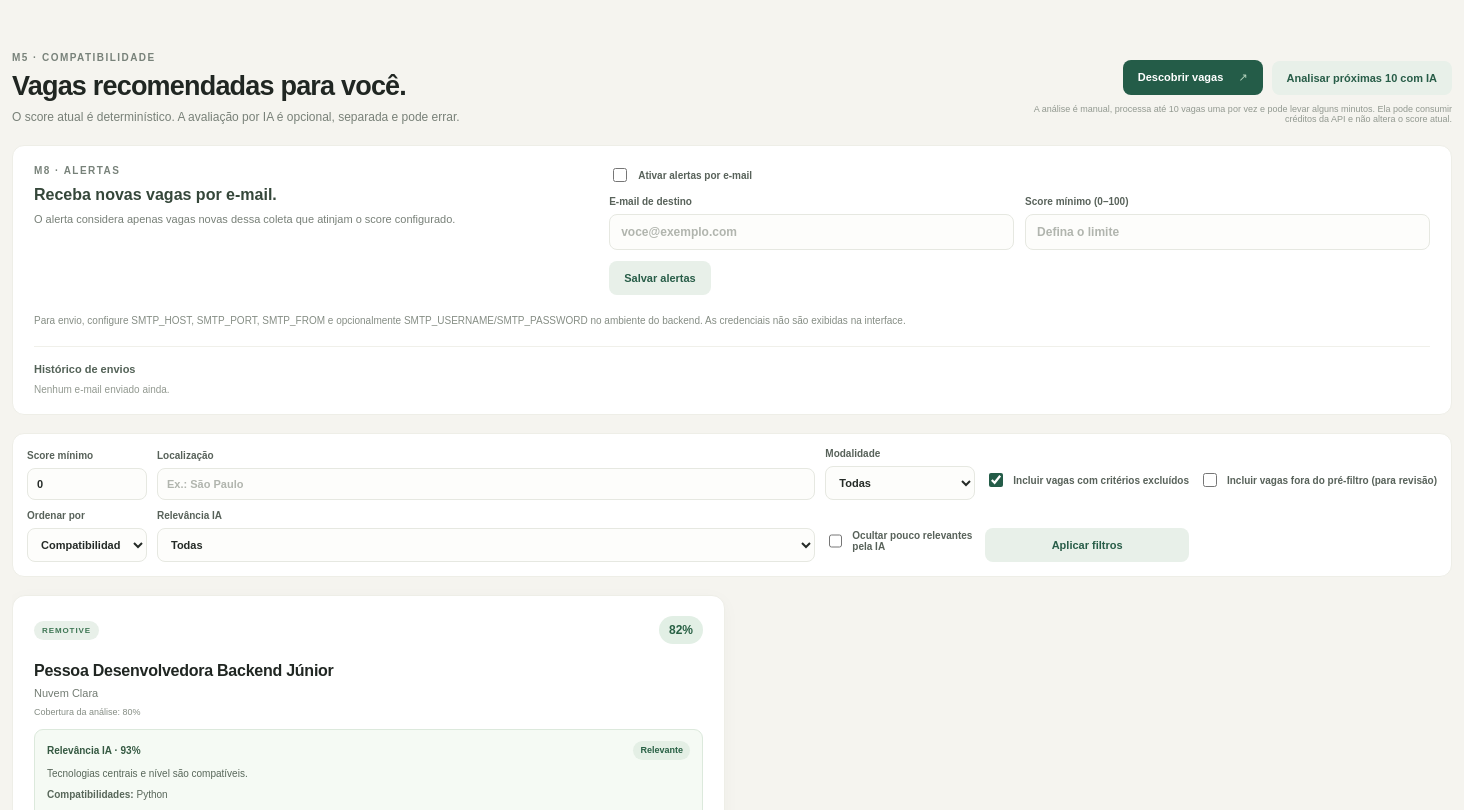
Test: recomendações de vagas M5 › explica quando o backend falha antes de registrar a descoberta
Click the button "Descobrir vagas ↗": (1193, 78) x1=1123 y1=60 x2=1263 y2=95
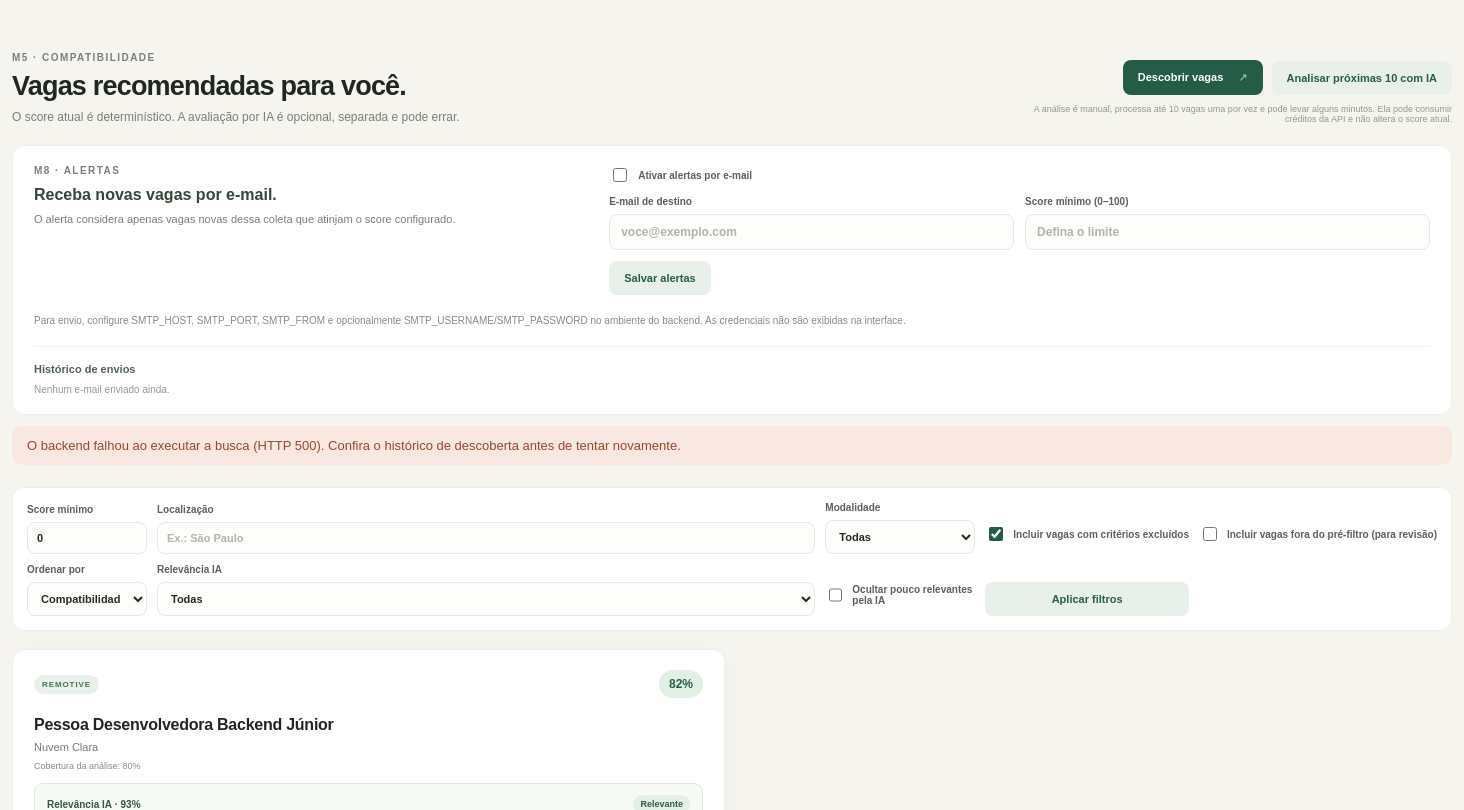
Now the message shows "O backend falhou ao executar a busca (HTTP 500).", box x1=27 y1=438 x2=681 y2=453
